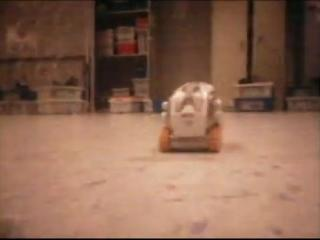cozmo: (158, 80, 224, 153)
